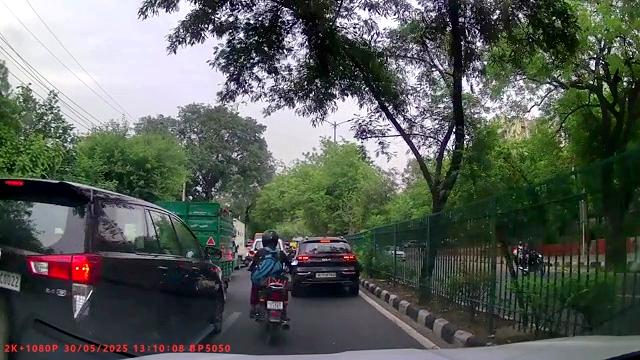motorcycle_with_helmet: (248, 229, 294, 343)
